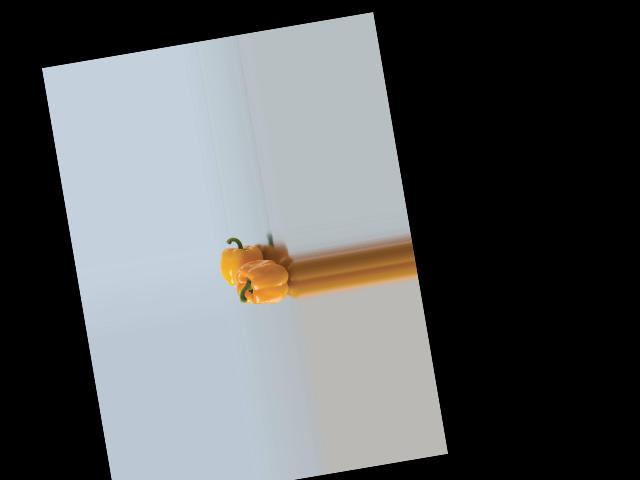bell_pepper: (215, 232, 275, 289)
